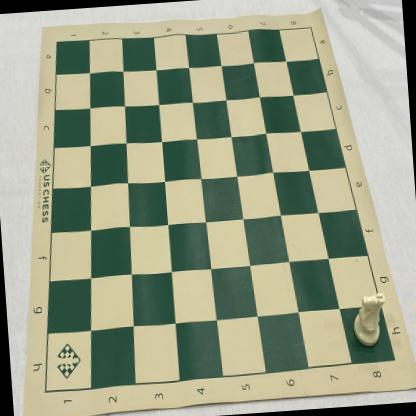knight: (350, 292, 389, 348)
